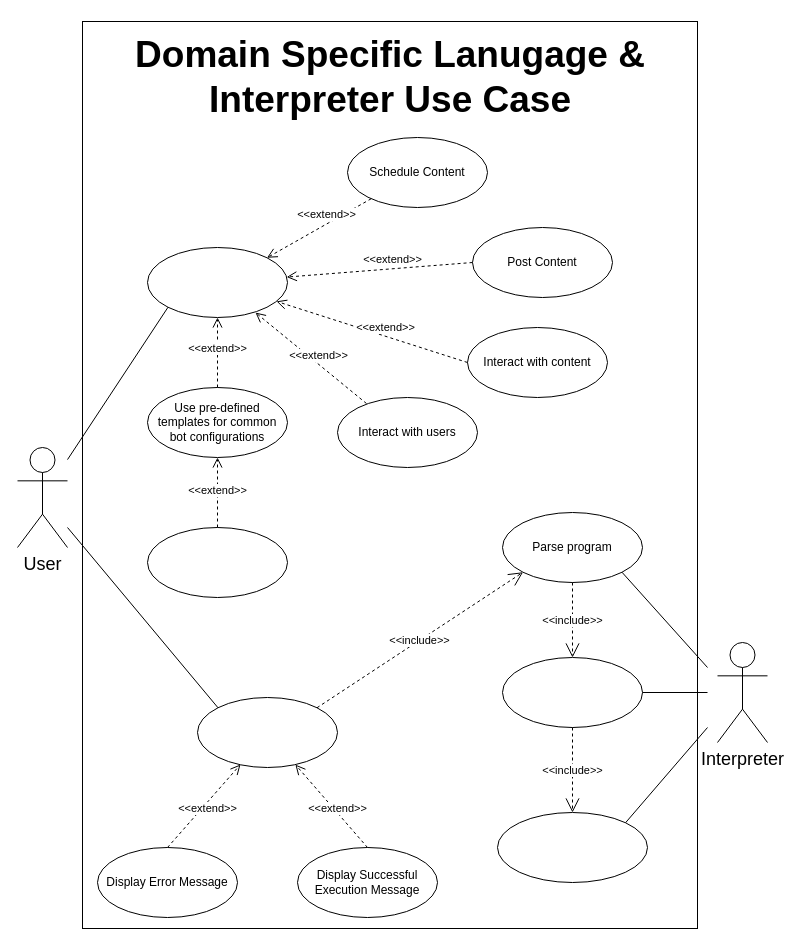
Some shapes in this 801 by 946 pixel diagram are drawn without their labels. Each missing label, with the centre of its shape:
"Customise templates" goes at [217,562].
"Execute the program" goes at [267,732].
"Generate Parse Tree" goes at [572,692].
"Traverse parse tree and execute application-specific code" goes at [572,847].
"Write program using DSL to configure bots" goes at [217,282].
